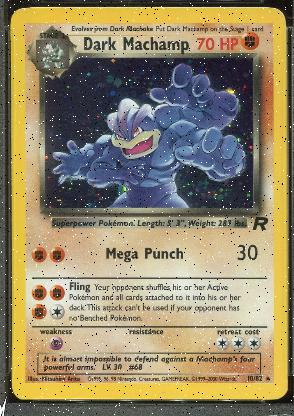Card: (8, 4, 290, 404)
Scratch: (87, 125, 110, 135)
